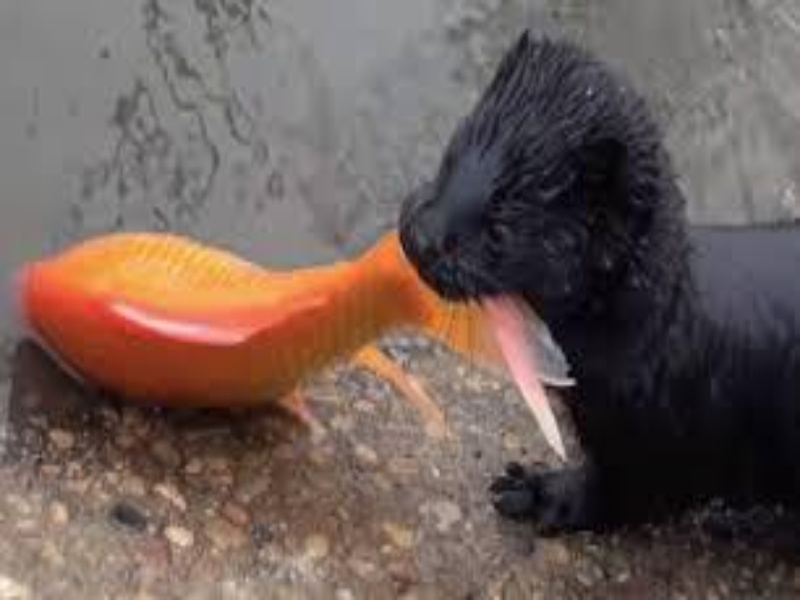minkish: (396, 29, 800, 547)
